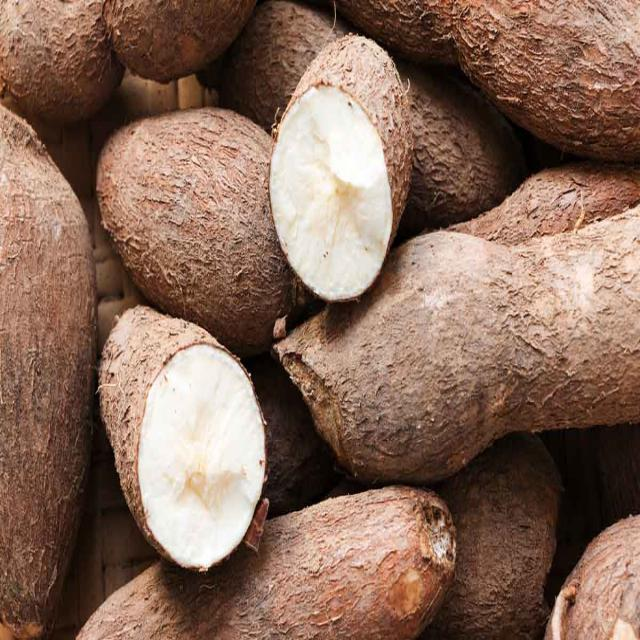yuca: (264, 19, 434, 337)
